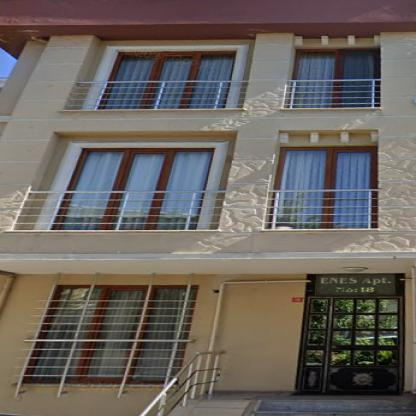door: (303, 297, 402, 392)
window: (30, 287, 195, 380), (55, 149, 212, 229), (273, 149, 375, 228), (102, 52, 236, 109), (291, 49, 379, 107)
